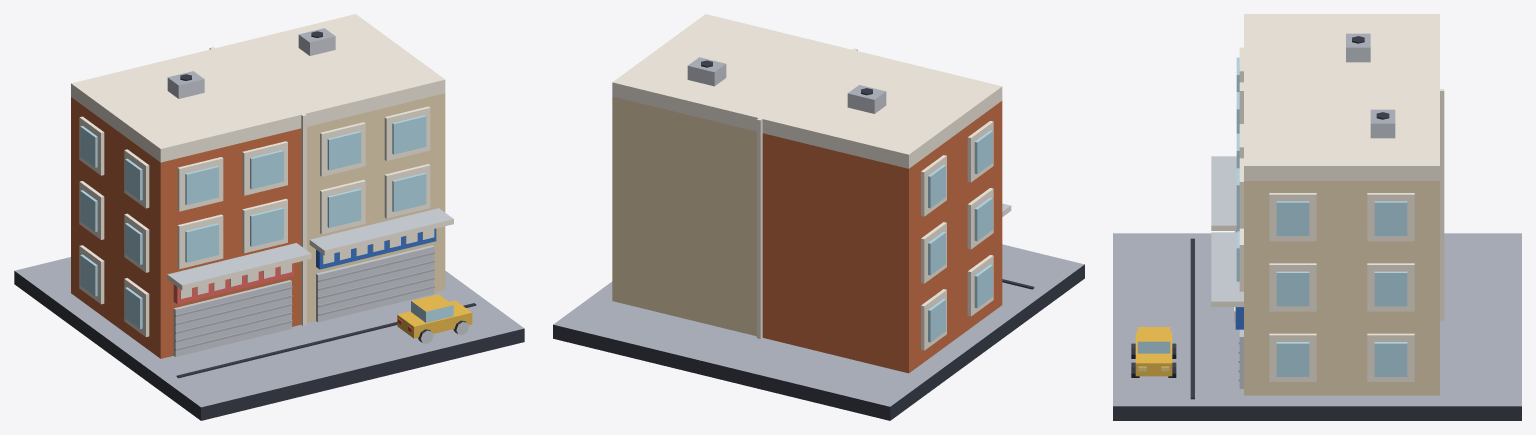
Rendered from office_shophouse.glb.
The picture shows the model from 3 angles, left to right: view 1: azimuth 30°, elevation 25°; view 2: azimuth 150°, elevation 25°; view 3: azimuth 270°, elevation 25°; orthographic projection. The views are drawn at different scales.
Visible parts, largest first — view 1: office_shophouse; view 2: office_shophouse; view 3: office_shophouse.
Boxes of the visible parts, x1,y1,x2,y2 form: office_shophouse: (14,14,524,420); office_shophouse: (553,14,1084,420); office_shophouse: (1113,14,1521,420).
Size of the model in its own units: 1 by 0.704 by 1.
